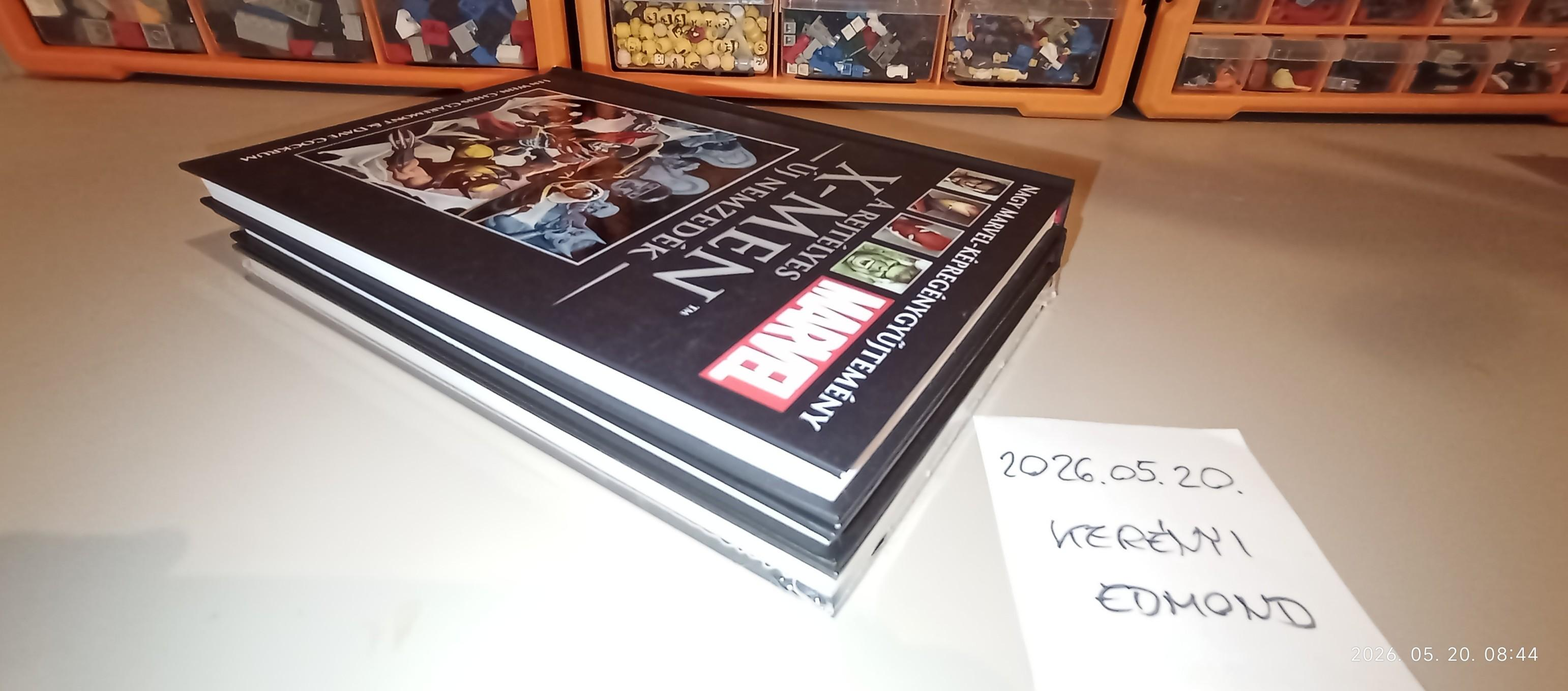comic: (144, 0, 1073, 534)
